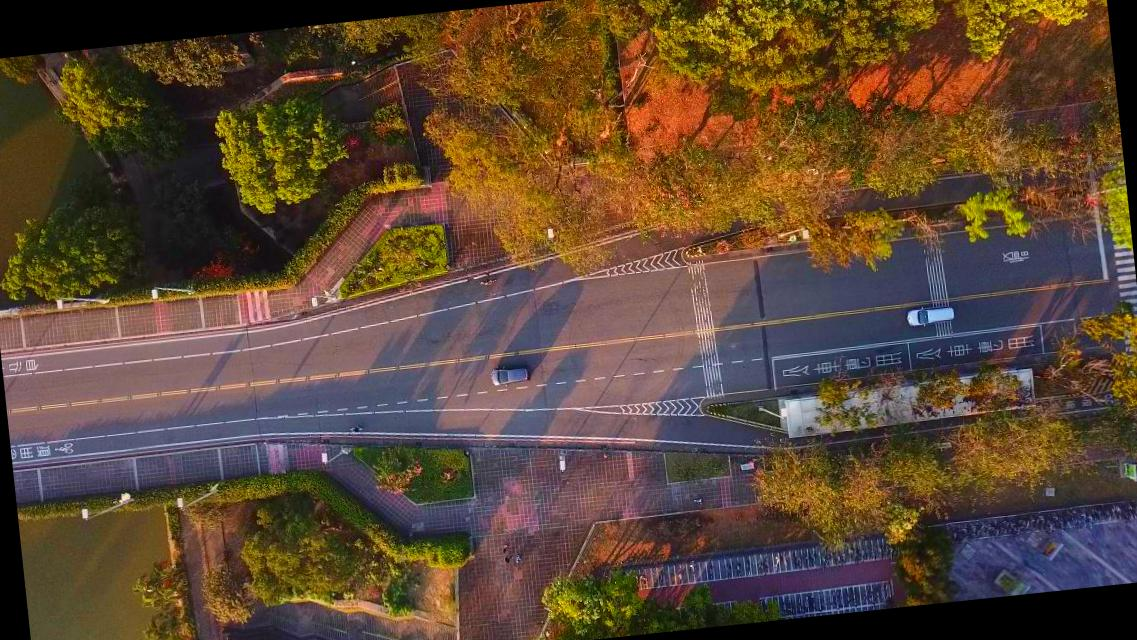vehicle: (906, 304, 956, 328), (488, 362, 534, 388)
